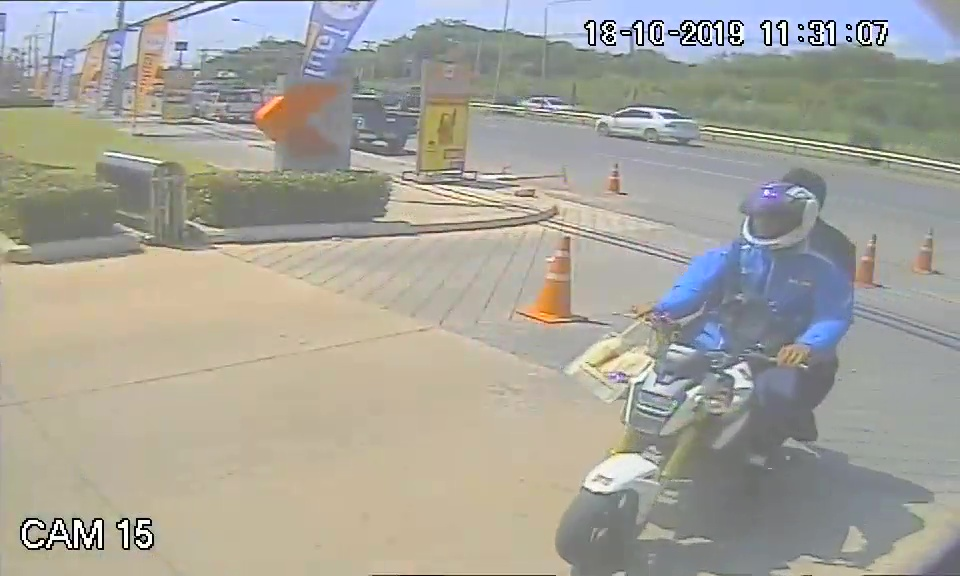motorcycle: (550, 330, 780, 564)
